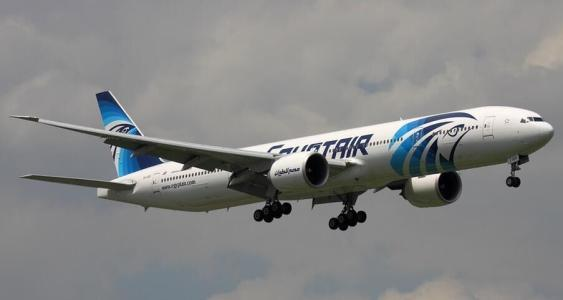airplane: (4, 87, 554, 235)
